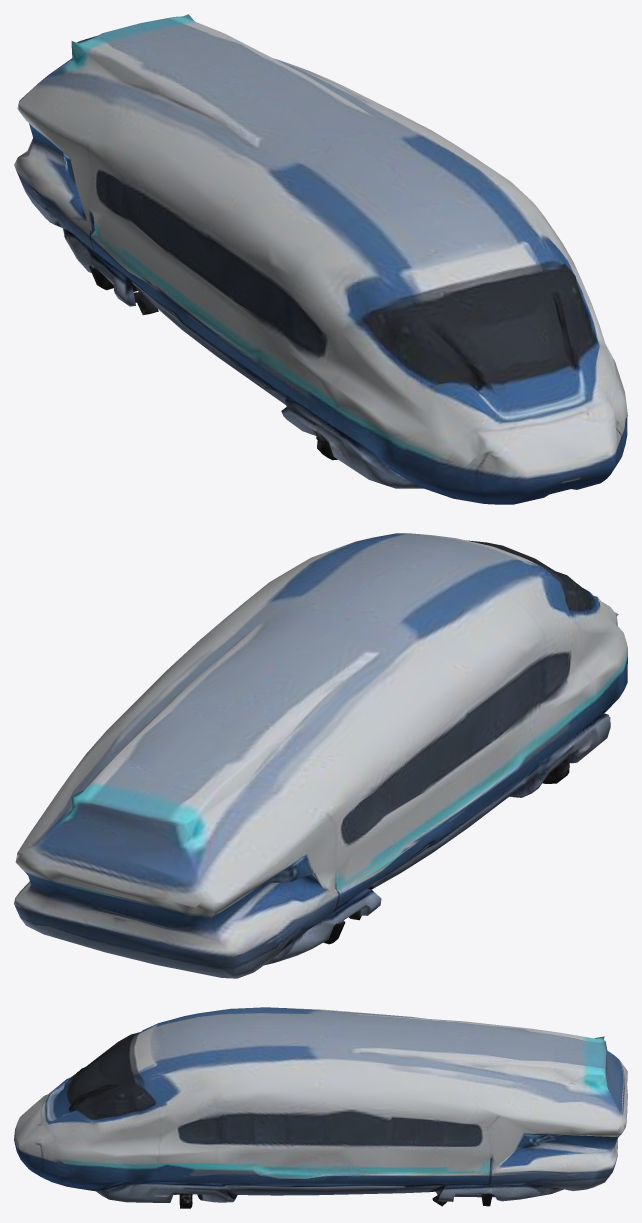
The model's file is trainF.glb.
3 views of the same model, one above another, from view 1: azimuth 30°, elevation 25°; view 2: azimuth 150°, elevation 25°; view 3: azimuth 270°, elevation 25° (orthographic). The views are drawn at different scales.
Parts seen in each view (by area): view 1: tripo_node_bad700d5-1cf5-42b5-ab91-855a59b7adf9; view 2: tripo_node_bad700d5-1cf5-42b5-ab91-855a59b7adf9; view 3: tripo_node_bad700d5-1cf5-42b5-ab91-855a59b7adf9.
Boxes of the visible parts, x1,y1,x2,y2 form: tripo_node_bad700d5-1cf5-42b5-ab91-855a59b7adf9: (14,14,627,504); tripo_node_bad700d5-1cf5-42b5-ab91-855a59b7adf9: (14,533,627,978); tripo_node_bad700d5-1cf5-42b5-ab91-855a59b7adf9: (14,1007,627,1208).
Size of the model in its own units: 0.3347 by 0.2656 by 1.
Materials: 1 (1 with a texture image).
